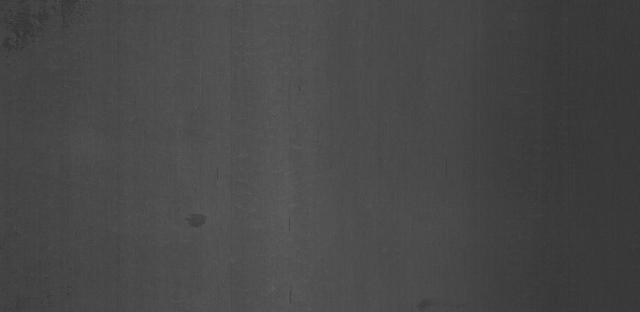water_spot: (181, 205, 217, 234)
